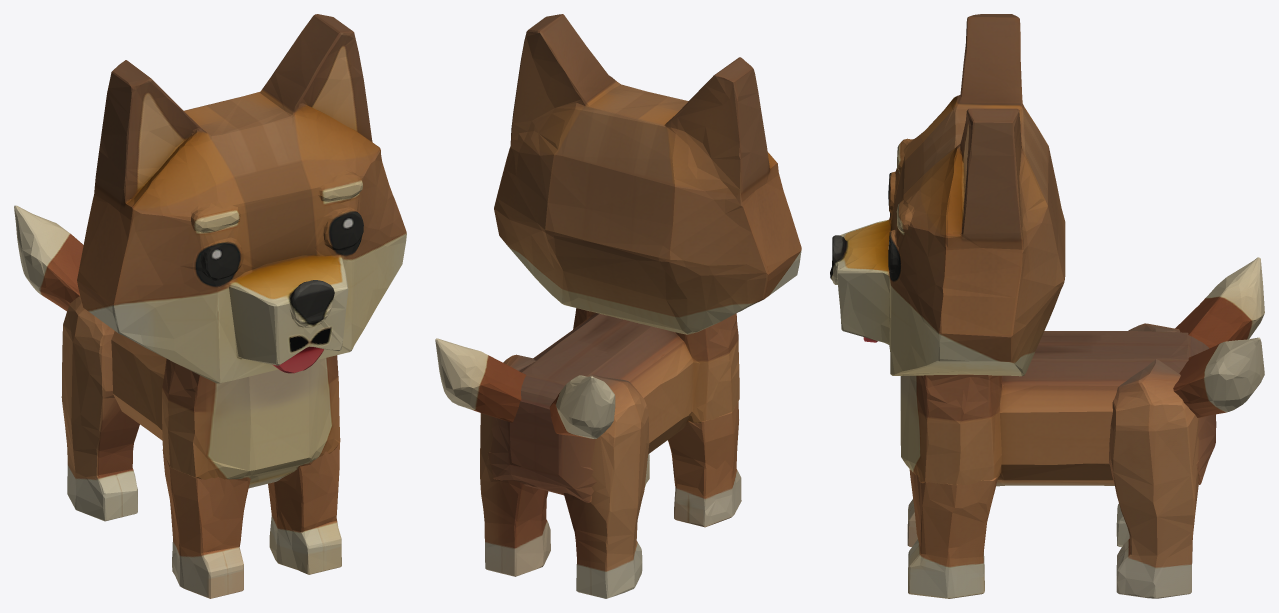
Rendered from werewolf.glb.
3 renders of one model, left to right at view 1: azimuth 30°, elevation 25°; view 2: azimuth 150°, elevation 25°; view 3: azimuth 270°, elevation 25°, orthographic. The views are drawn at different scales.
Parts seen in each view (by area): view 1: Werewolf_head, Werewolf_body, Werewolf_rear left leg, Werewolf_front left leg, Werewolf_front right leg, Werewolf_tail; view 2: Werewolf_head, Werewolf_body, Werewolf_rear left leg, Werewolf_tail, Werewolf_rear right leg, Werewolf_front left leg; view 3: Werewolf_head, Werewolf_body, Werewolf_rear right leg, Werewolf_tail, Werewolf_front right leg, Werewolf_rear left leg.
Boxes of the visible parts, <box> form: Werewolf_head: <box>77,14,406,383</box>; Werewolf_body: <box>111,331,340,488</box>; Werewolf_rear left leg: <box>61,296,139,521</box>; Werewolf_front left leg: <box>162,449,250,598</box>; Werewolf_front right leg: <box>268,443,341,574</box>; Werewolf_tail: <box>14,205,83,311</box>; Werewolf_head: <box>494,14,801,334</box>; Werewolf_body: <box>487,308,739,502</box>; Werewolf_rear left leg: <box>563,374,649,598</box>; Werewolf_tail: <box>435,338,615,438</box>; Werewolf_rear right leg: <box>480,354,550,576</box>; Werewolf_front left leg: <box>668,401,741,527</box>; Werewolf_head: <box>830,14,1065,376</box>; Werewolf_body: <box>900,331,1216,486</box>; Werewolf_rear right leg: <box>1109,359,1199,598</box>; Werewolf_tail: <box>1173,257,1264,417</box>; Werewolf_front right leg: <box>908,469,997,598</box>; Werewolf_rear left leg: <box>1116,323,1180,547</box>.
Bounding box in the file's own units: 4 × 6.57 × 5.18.
Materials: 7 (7 with a texture image).
